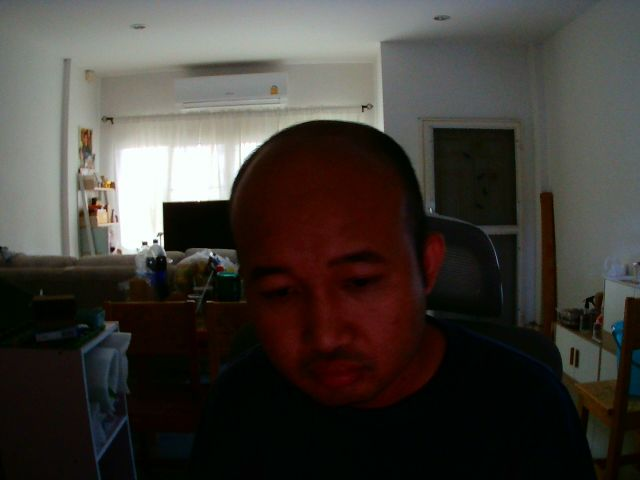face: (228, 116, 424, 415)
